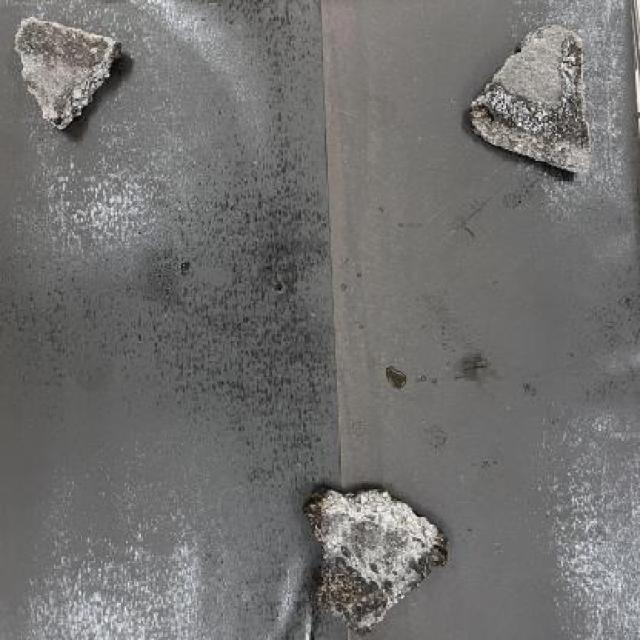Road Debris: (480, 87, 586, 147), (15, 16, 111, 76), (320, 558, 394, 630)
